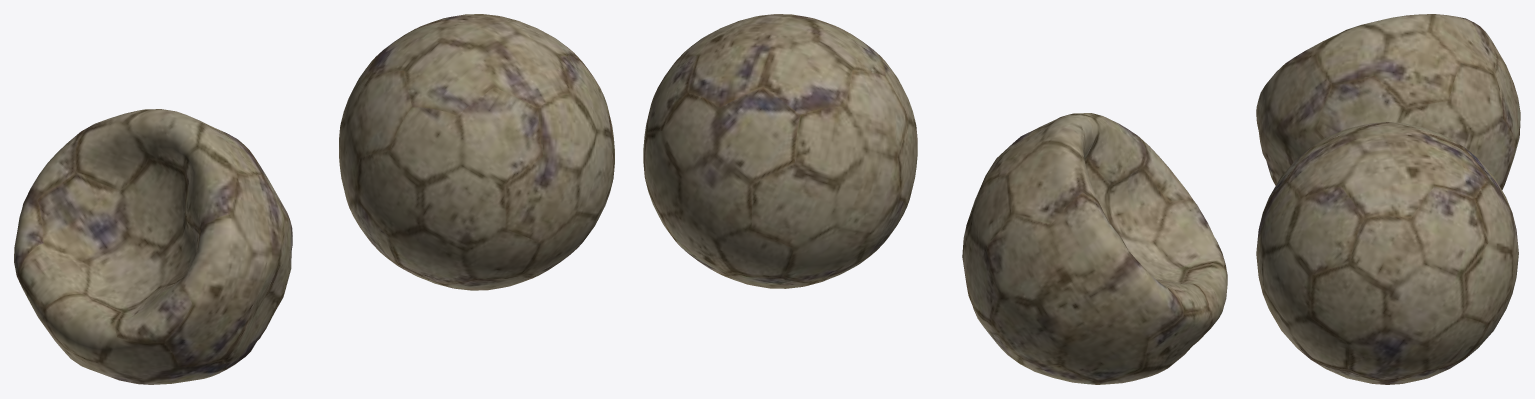
Rendered from football.glb.
3 views of the same model, side by side, from view 1: azimuth 30°, elevation 25°; view 2: azimuth 150°, elevation 25°; view 3: azimuth 270°, elevation 25° (orthographic). The views are drawn at different scales.
Parts seen in each view (by area): view 1: football_inflated, football_deflated; view 2: football_inflated, football_deflated; view 3: football_inflated, football_deflated.
Part boxes in pixels (x1,y1,x2,y2): football_inflated: [339, 14, 614, 290]; football_deflated: [14, 109, 292, 384]; football_inflated: [643, 14, 917, 288]; football_deflated: [962, 113, 1227, 384]; football_inflated: [1256, 122, 1518, 384]; football_deflated: [1256, 14, 1520, 189].
Bounding box in the file's own units: 0.5089 × 0.2219 × 0.2222.
Materials: 1 (1 with a texture image).
